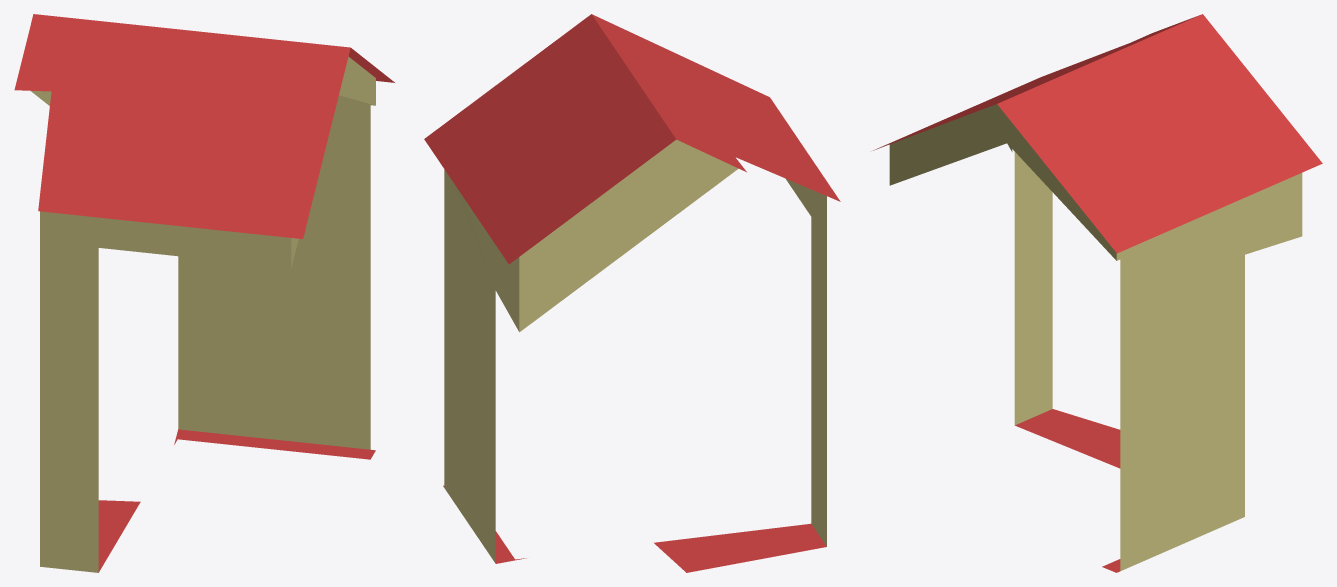
3 views of the same model, side by side, from view 1: azimuth 30°, elevation 25°; view 2: azimuth 150°, elevation 25°; view 3: azimuth 270°, elevation 25° (orthographic). The views are drawn at different scales.
Bounding box in the file's own units: 14.36 × 15.61 × 16.27.
